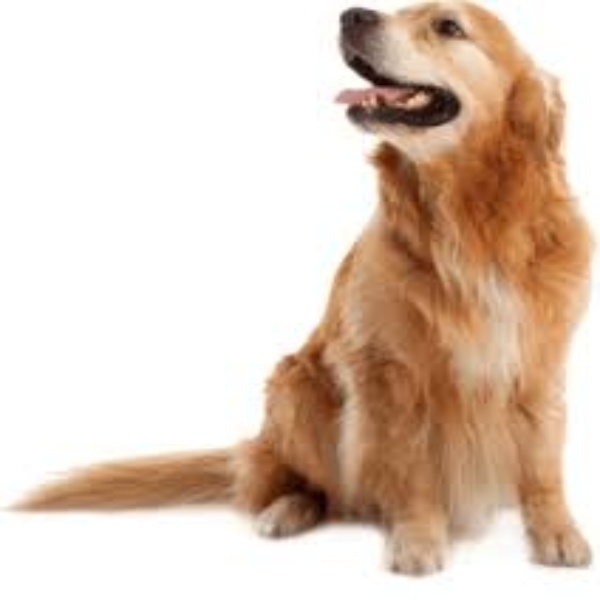dog: (6, 2, 593, 600)
